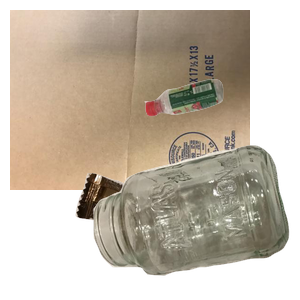cardboard: (10, 10, 250, 190)
glass: (91, 143, 300, 300)
plastic: (142, 77, 300, 186)
trash: (73, 171, 242, 300)
